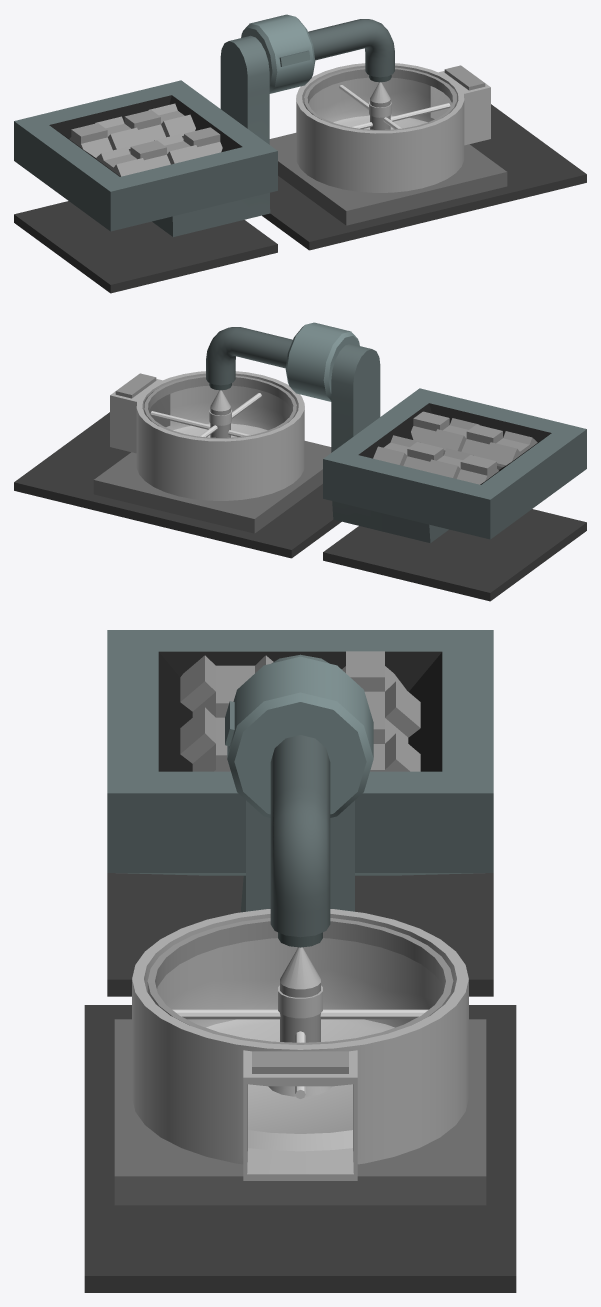
File: mech_1_V2_unlockAnim.fbx
3 renders of one model, top to bottom at view 1: azimuth 30°, elevation 25°; view 2: azimuth 150°, elevation 25°; view 3: azimuth 270°, elevation 25°, orthographic. The views are drawn at different scales.
Visible parts, largest first — view 1: mech_1_v2_unlockAnim; view 2: mech_1_v2_unlockAnim; view 3: mech_1_v2_unlockAnim.
Boxes of the visible parts, x1,y1,x2,y2 form: mech_1_v2_unlockAnim: (14,14,586,293); mech_1_v2_unlockAnim: (14,322,586,601); mech_1_v2_unlockAnim: (84,630,516,1292).
Size of the model in its own units: 366 by 137 by 145.
